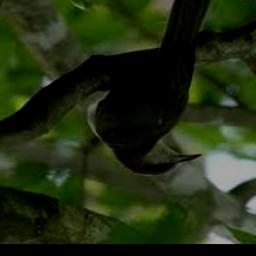Cuckoo: (87, 0, 216, 176)
